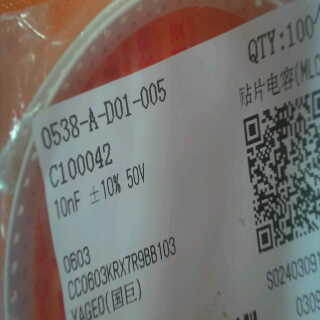10nF: (52, 187, 82, 224)
